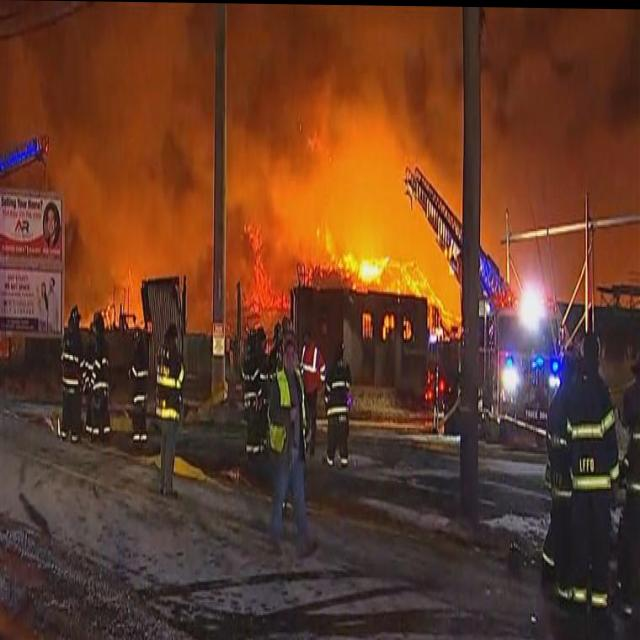fire: (339, 245, 391, 292)
